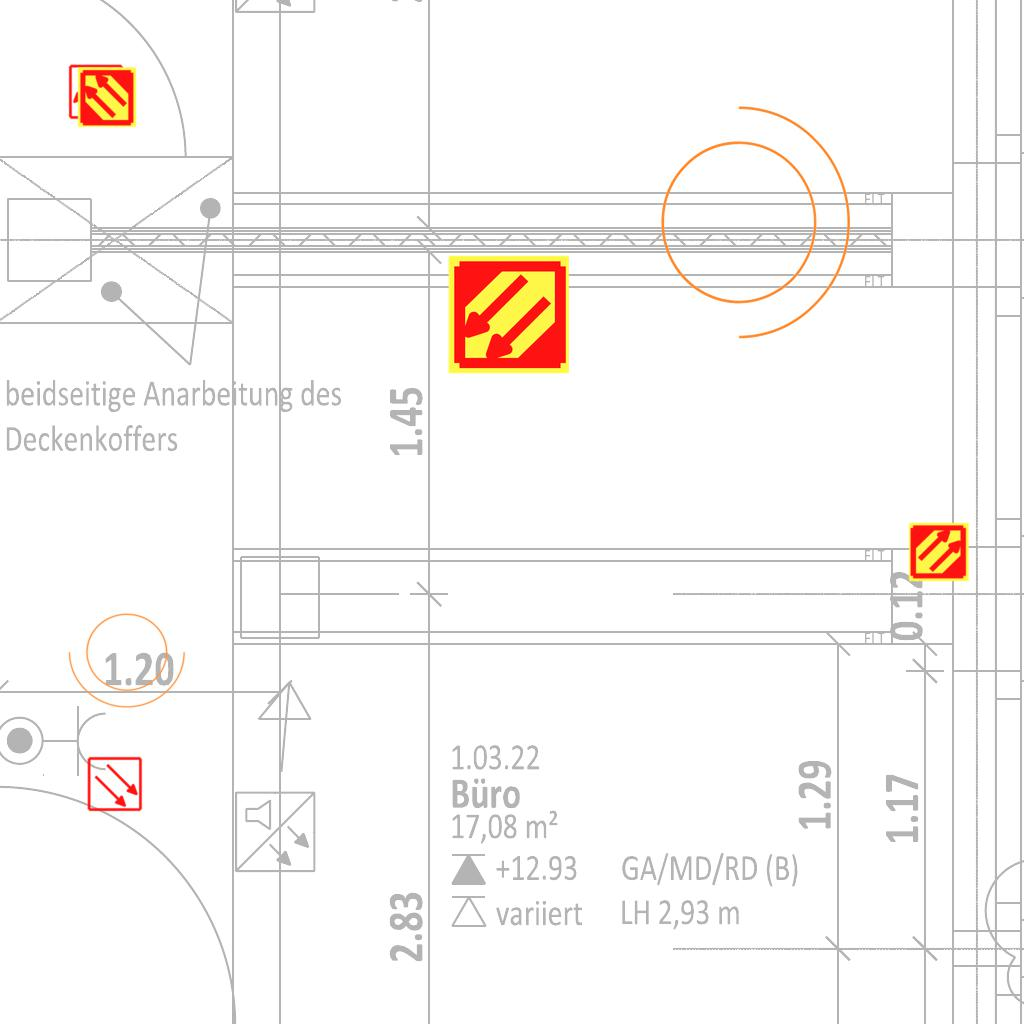ASR_Ansaugrauchmelder: (446, 252, 571, 377), (908, 521, 970, 583), (76, 66, 138, 128)
RMO_Rauchmelder_optischer: (68, 64, 124, 120), (87, 756, 143, 812)
Scheinwerfer_fuer_Alarmbeleuchtung: (636, 84, 861, 348), (64, 601, 196, 713)
